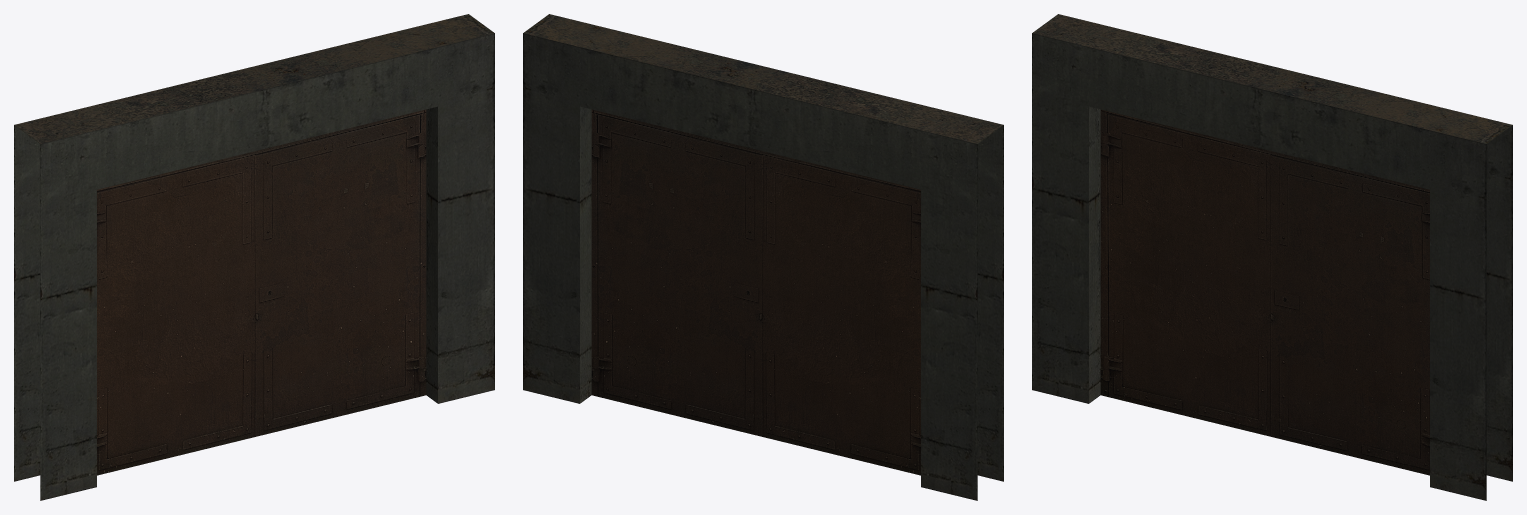
File: garage_door_frame_rg_2.obj
3 renders of one model, left to right at view 1: azimuth 30°, elevation 25°; view 2: azimuth 150°, elevation 25°; view 3: azimuth 330°, elevation 25°, orthographic.
Visible parts, largest first — view 1: garage_door_hm_3, garage_door_frame_rg_2; view 2: garage_door_hm_3, garage_door_frame_rg_2; view 3: garage_door_hm_3, garage_door_frame_rg_2.
Boxes of the visible parts, x1,y1,x2,y2 form: garage_door_hm_3: (97,109,426,475); garage_door_frame_rg_2: (14,14,494,500); garage_door_hm_3: (591,109,920,475); garage_door_frame_rg_2: (523,14,1003,500); garage_door_hm_3: (1100,109,1429,475); garage_door_frame_rg_2: (1032,14,1512,500).
Bounding box in the file's own units: 4 × 3 × 0.4.
